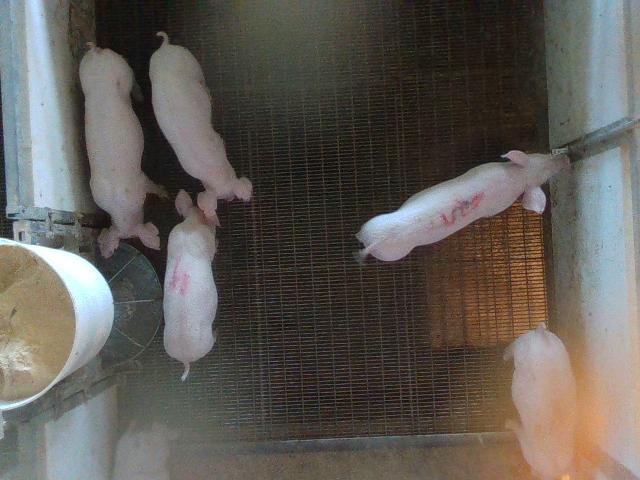pig-1: (508, 322, 576, 479)
pig-3: (356, 151, 569, 261)
pig-4: (164, 190, 218, 381)
